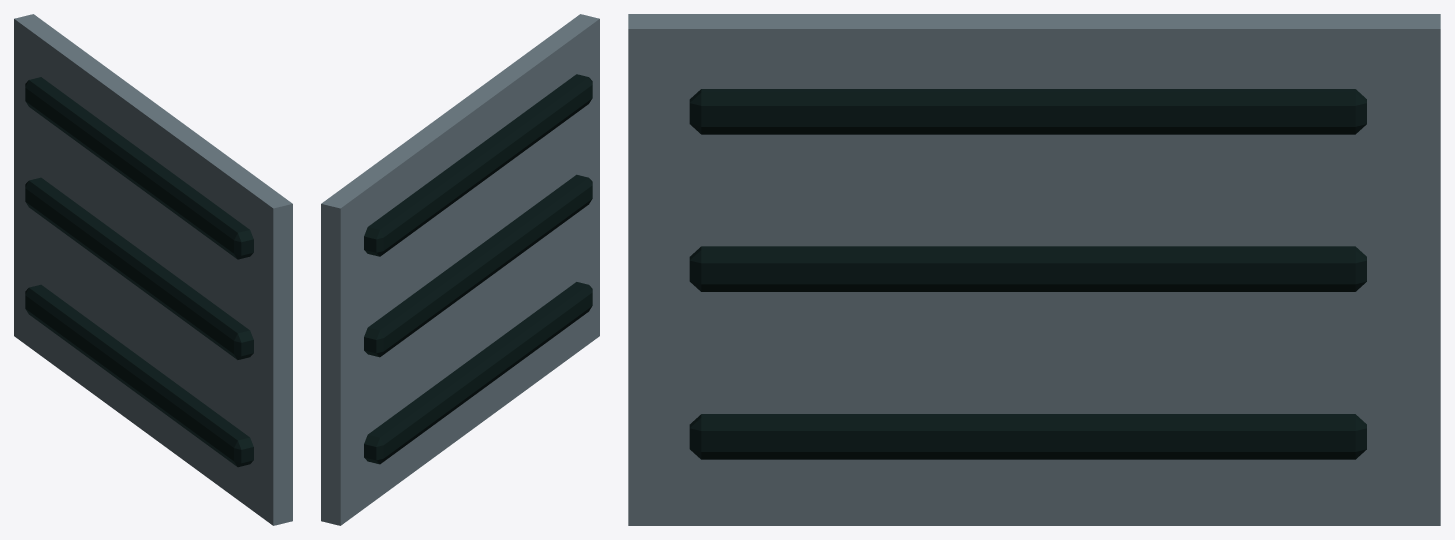
File: plaka 14 emboss.fbx
3 views of the same model, side by side, from view 1: azimuth 30°, elevation 25°; view 2: azimuth 150°, elevation 25°; view 3: azimuth 270°, elevation 25° (orthographic). The views are drawn at different scales.
Parts seen in each view (by area): view 1: polySurface1956; view 2: polySurface1956; view 3: polySurface1956.
Boxes of the visible parts, x1,y1,x2,y2 form: polySurface1956: (14, 14, 292, 525); polySurface1956: (321, 14, 599, 525); polySurface1956: (628, 14, 1440, 525).
Size of the model in its own units: 20.11 by 139 by 206.
